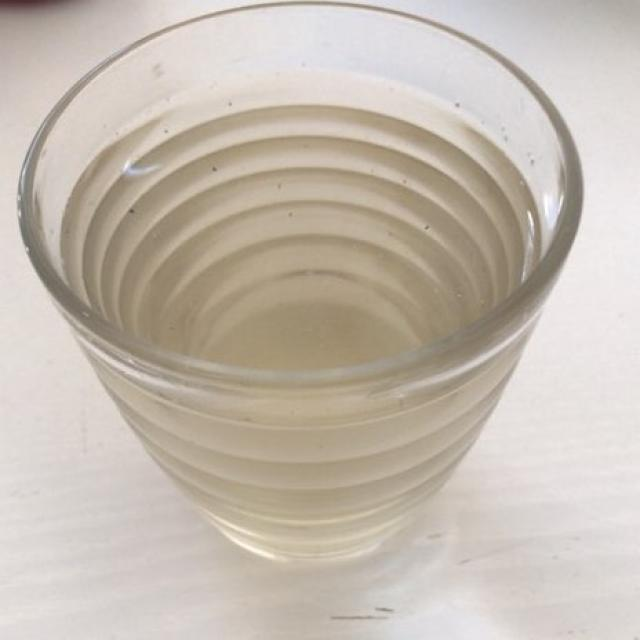herbal-tea: (102, 106, 548, 565)
